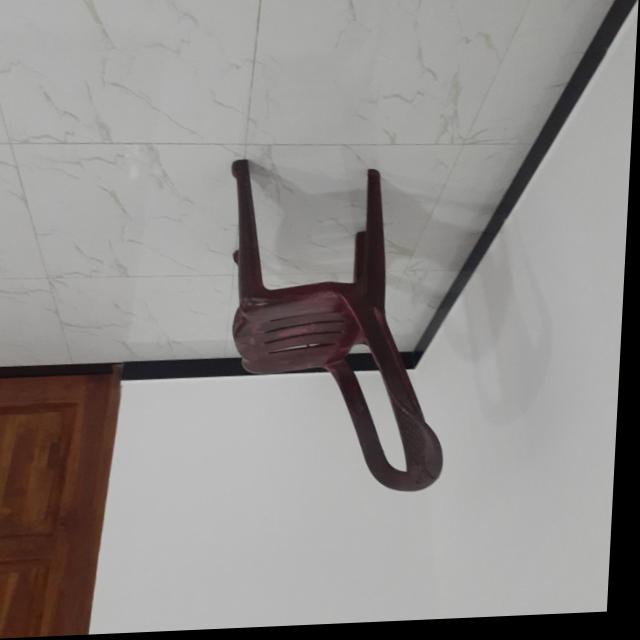Chair: (217, 154, 459, 504)
